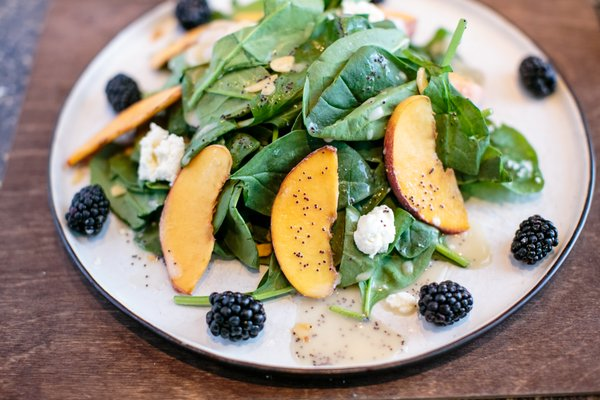taco: (159, 144, 235, 294)
